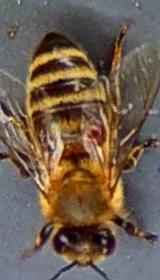varroa_mite: (70, 112, 122, 158)
